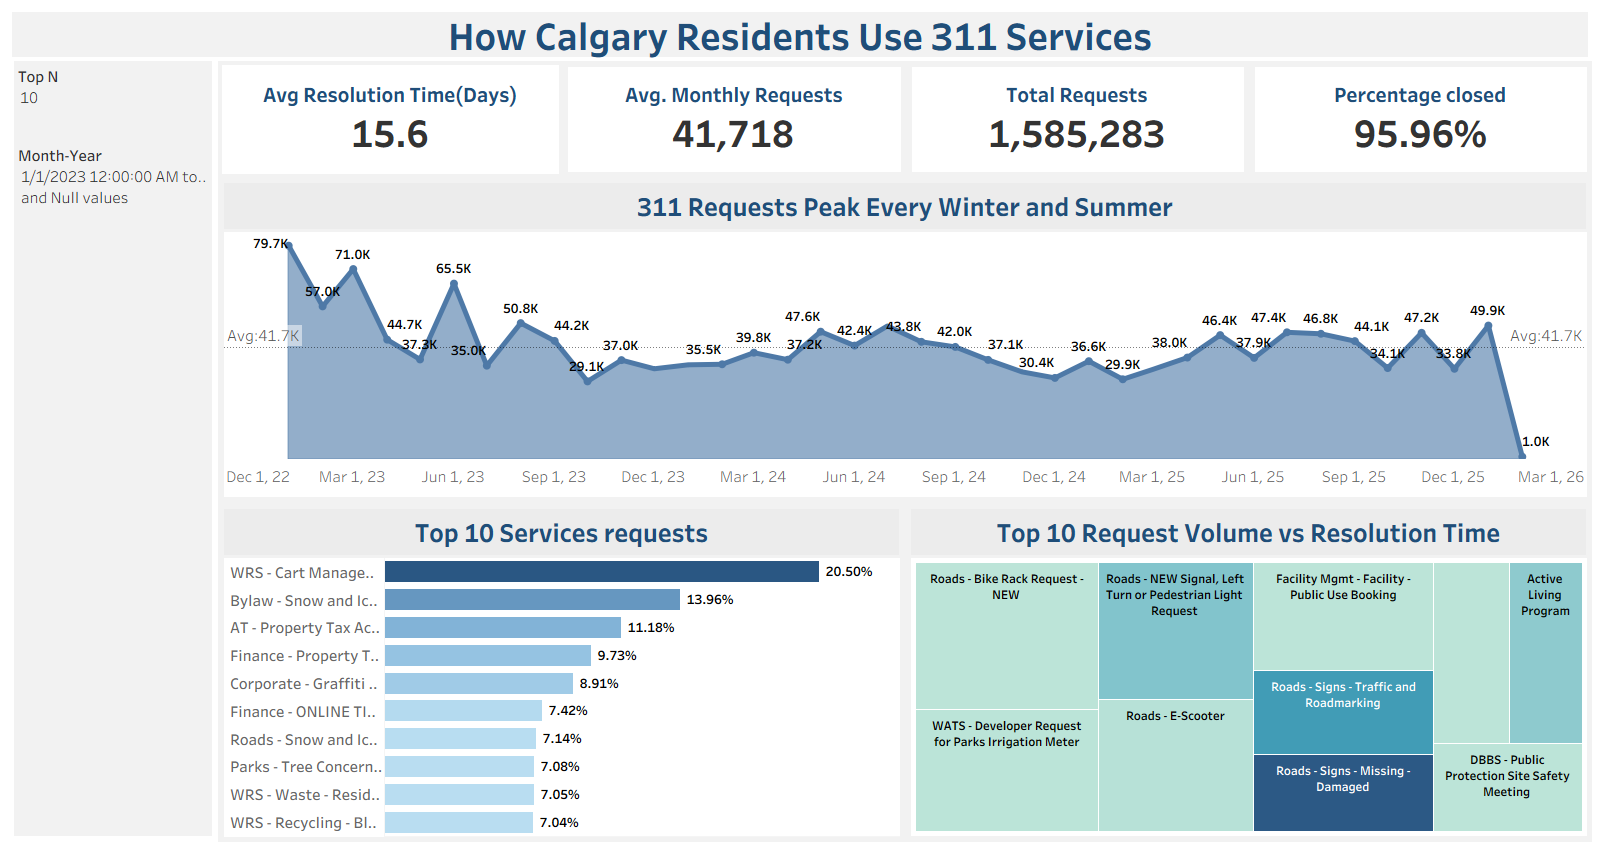

This screenshot's page, from the dashboard's own definition file:
{"tool":"tableau","page":{"name":"How Calgary Residents Use 311 Services","canvas":[1600,850],"ordinal":0},"visuals":[{"type":"title","box":[8,8,1584,52.8]},{"type":"parameter","param":"[Parameters].[Parameter 1]","box":[14,60.8,198,79]},{"type":"worksheet","title":"Avg. Resolution timee","mark":"Automatic","box":[218,61,344,116]},{"type":"worksheet","title":"Avg. Monthly Requests","mark":"Automatic","box":[562,61,344,116]},{"type":"worksheet","title":"Total Requests KPI","mark":"Text","box":[906,61,343,116]},{"type":"worksheet","title":"Percent closed","mark":"Automatic","box":[1249,61,343,116]},{"type":"filter","title":"Avg. Monthly Requests","param":"[federated.0k7trpw01j9d2n1gzt3p70d8bcq3].[none:Calculation_791507668185325568:qk","box":[14,139.8,198,73]},{"type":"worksheet","title":"Requests Over Time","mark":"Area","rows":["service_request_id","service_request_id"],"cols":["Calculation_791507668185325568"],"box":[218,176.9,1374,326.4]},{"type":"worksheet","title":"Top Service Categories","mark":"Automatic","rows":["service_name"],"cols":["service_request_id"],"box":[218,503,687,339]},{"type":"worksheet","title":"Request Volume vs Resolution Time","mark":"Automatic","box":[905,503,687,339]}]}

Visuals, with their boxes in screenshot pixels (x1, y1, x2, y2), scaled from the page's 1600x850 canvas onto the 1600x850 screenshot:
title: [8, 8, 1592, 61]
parameter: [14, 61, 212, 140]
"Avg. Resolution timee" worksheet: [218, 61, 562, 177]
"Avg. Monthly Requests" worksheet: [562, 61, 906, 177]
"Total Requests KPI" worksheet (Text marks): [906, 61, 1249, 177]
"Percent closed" worksheet: [1249, 61, 1592, 177]
"Avg. Monthly Requests" filter: [14, 140, 212, 213]
"Requests Over Time" worksheet (Area marks): [218, 177, 1592, 503]
"Top Service Categories" worksheet: [218, 503, 905, 842]
"Request Volume vs Resolution Time" worksheet: [905, 503, 1592, 842]
